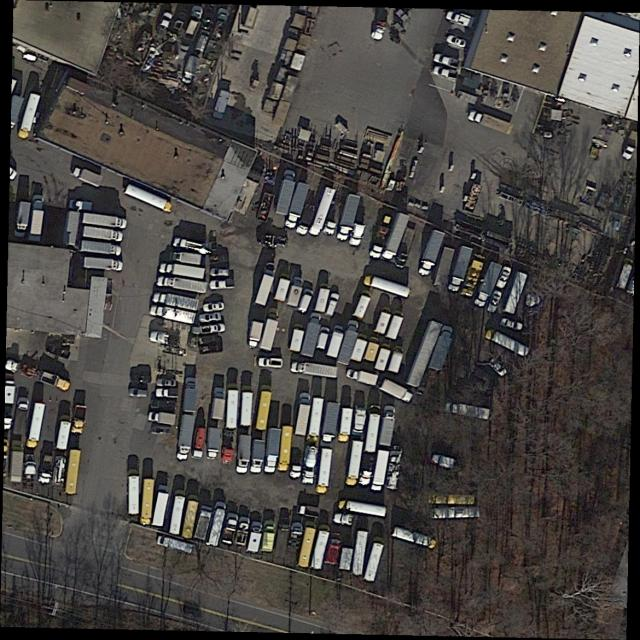large-vehicle: (123, 183, 174, 213), (309, 186, 336, 237), (383, 213, 412, 260), (485, 328, 531, 357), (418, 229, 445, 277), (475, 261, 502, 308), (467, 108, 514, 135), (428, 326, 455, 372), (286, 182, 310, 230), (18, 92, 42, 140), (448, 246, 473, 292), (370, 214, 394, 260), (337, 195, 360, 242), (364, 275, 411, 298), (443, 400, 491, 422), (392, 527, 437, 550), (337, 321, 360, 366), (504, 272, 528, 315), (460, 258, 485, 299), (363, 537, 385, 583), (383, 445, 405, 490), (206, 502, 228, 547), (275, 169, 296, 216), (301, 313, 323, 357), (153, 291, 200, 311), (149, 305, 196, 325), (339, 500, 388, 519), (380, 379, 415, 405), (158, 276, 208, 294), (394, 228, 416, 268), (27, 403, 46, 449), (260, 309, 280, 352), (312, 525, 331, 570), (298, 522, 317, 566), (168, 490, 187, 534), (254, 269, 276, 307), (346, 441, 364, 487), (307, 398, 325, 444), (82, 212, 128, 229), (177, 415, 194, 461), (371, 450, 389, 493), (295, 201, 317, 236), (65, 449, 82, 494), (152, 485, 170, 527), (159, 263, 206, 279), (292, 363, 339, 379), (265, 428, 281, 475), (182, 495, 199, 538), (365, 407, 381, 452), (317, 449, 333, 494), (301, 446, 319, 486), (193, 504, 213, 540), (235, 434, 253, 474), (256, 386, 272, 431), (295, 394, 312, 436), (140, 479, 155, 526), (71, 166, 103, 188), (323, 402, 340, 443), (5, 359, 38, 380), (353, 530, 368, 576), (379, 406, 396, 446), (278, 427, 293, 472), (82, 226, 124, 242), (157, 536, 194, 554), (13, 398, 31, 434), (38, 372, 70, 392), (172, 236, 207, 254), (10, 441, 25, 482), (81, 242, 122, 257), (37, 450, 55, 484), (353, 290, 373, 320), (15, 202, 32, 237), (326, 533, 344, 566), (327, 326, 345, 359), (347, 368, 378, 387), (430, 506, 479, 518), (127, 469, 140, 513), (31, 196, 45, 236), (374, 306, 393, 335), (386, 312, 405, 341), (226, 385, 238, 429), (247, 522, 264, 553), (274, 274, 292, 303), (428, 493, 475, 504), (70, 404, 86, 436), (241, 387, 254, 426), (84, 258, 123, 271), (352, 405, 368, 436), (56, 417, 71, 450), (149, 410, 178, 427), (168, 251, 203, 265), (351, 335, 369, 362), (339, 408, 353, 442), (375, 344, 392, 372), (251, 440, 265, 474), (315, 285, 332, 313), (388, 346, 405, 374), (261, 522, 276, 553), (207, 429, 222, 459), (183, 379, 197, 411), (212, 388, 226, 419), (289, 325, 305, 352), (248, 322, 264, 349), (364, 338, 381, 363), (193, 428, 206, 460)
small-vehicle: (444, 10, 478, 30), (220, 511, 240, 545), (284, 275, 305, 307), (180, 55, 201, 86), (428, 452, 458, 472), (288, 447, 304, 481), (444, 30, 471, 50), (296, 286, 315, 314), (485, 288, 504, 315), (235, 516, 252, 546), (487, 356, 510, 378), (433, 52, 461, 70), (295, 503, 323, 520), (494, 264, 513, 289), (155, 11, 174, 36), (499, 316, 525, 334), (323, 292, 341, 318), (432, 64, 459, 81), (313, 325, 331, 350), (207, 278, 235, 291), (68, 199, 95, 212), (199, 322, 226, 335), (198, 311, 223, 324), (258, 357, 284, 369), (151, 399, 176, 411), (154, 388, 181, 399), (202, 302, 225, 313), (155, 376, 178, 387), (210, 267, 231, 278), (278, 510, 289, 530), (150, 426, 173, 435), (131, 374, 150, 384), (128, 389, 149, 398), (132, 365, 150, 374)
